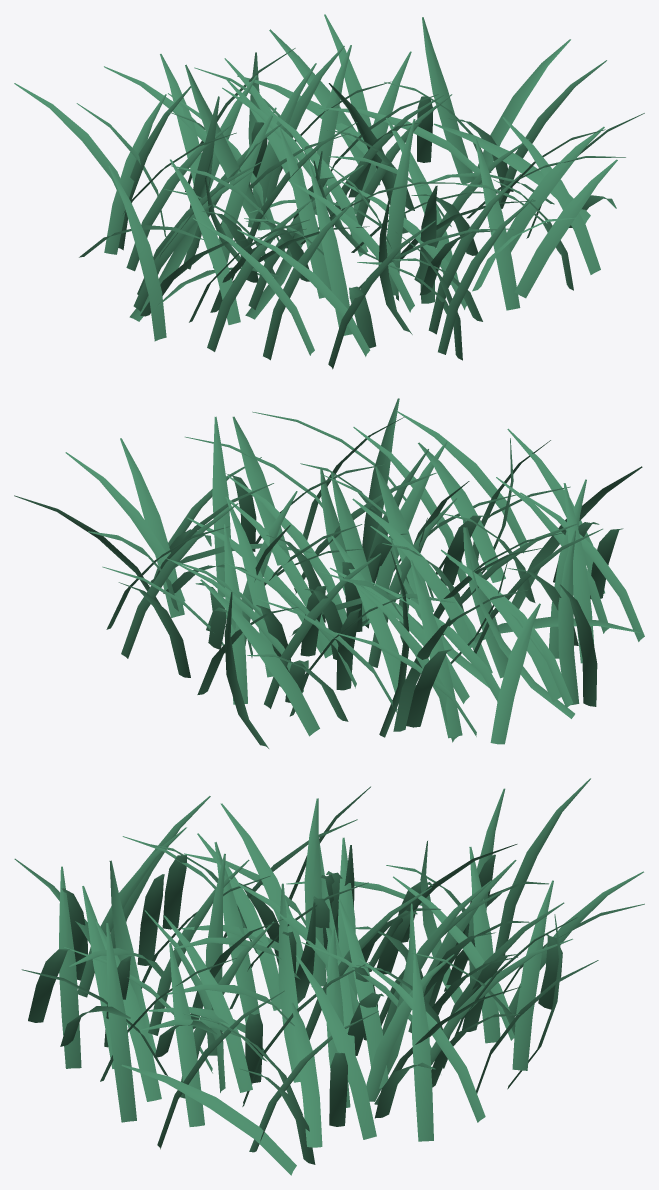
File: Grass_Clump_Small.fbx
3 renders of one model, top to bottom at view 1: azimuth 30°, elevation 25°; view 2: azimuth 150°, elevation 25°; view 3: azimuth 270°, elevation 25°, orthographic. The views are drawn at different scales.
Parts seen in each view (by area): view 1: GrassClump_Small; view 2: GrassClump_Small; view 3: GrassClump_Small.
Boxes of the visible parts, x1,y1,x2,y2 form: GrassClump_Small: (14,14,644,369); GrassClump_Small: (14,398,644,748); GrassClump_Small: (14,778,644,1175).
Size of the model in its own units: 2340 by 801 by 2267.
